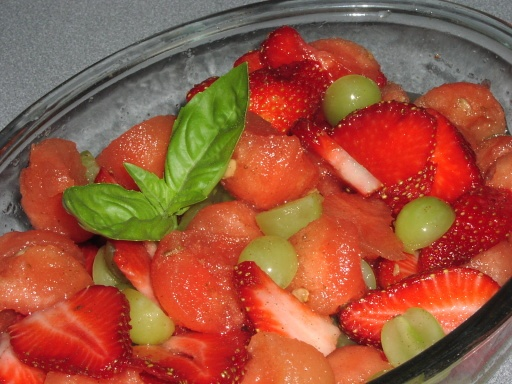background: (0, 14, 410, 230)
